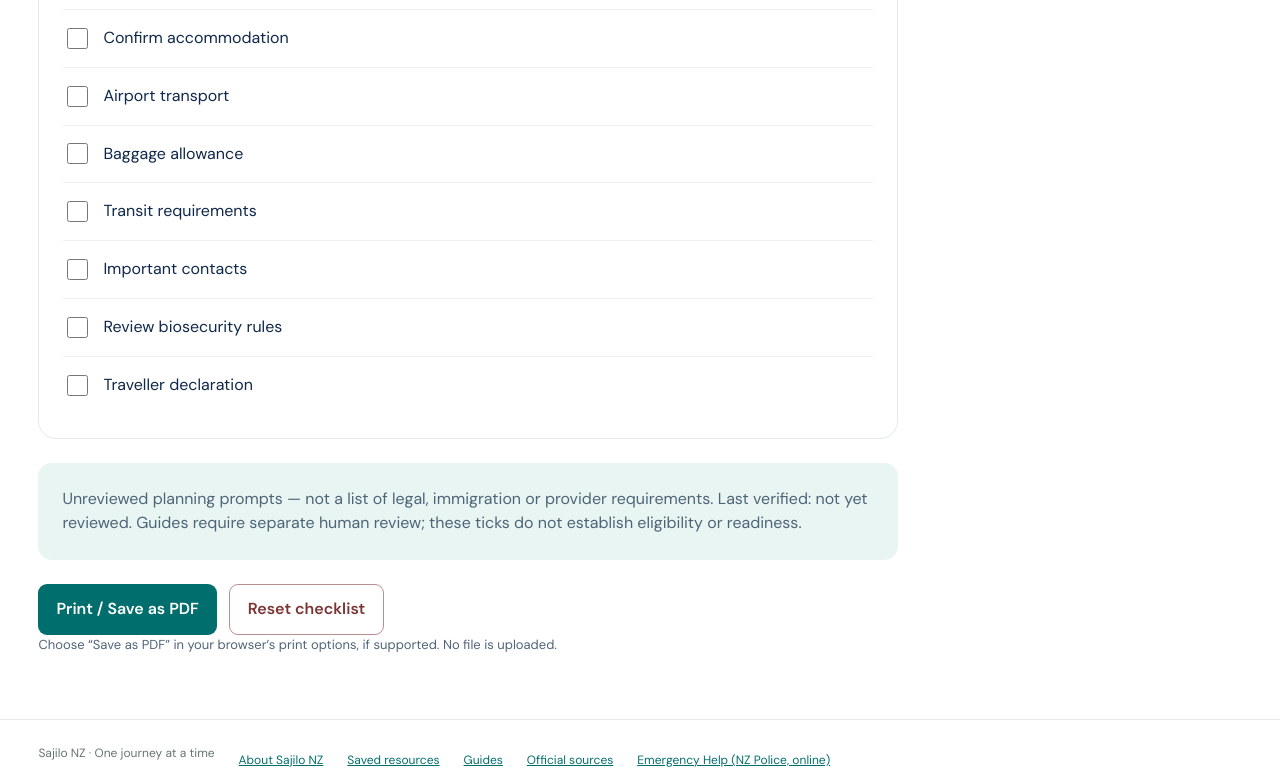
requires confirmation, preserves progress on cancel and confirms successful reset
The image size is (1280, 770).
(page scrolled)
Click the button "Reset checklist": point(306, 610) x1=229 y1=584 x2=384 y2=635
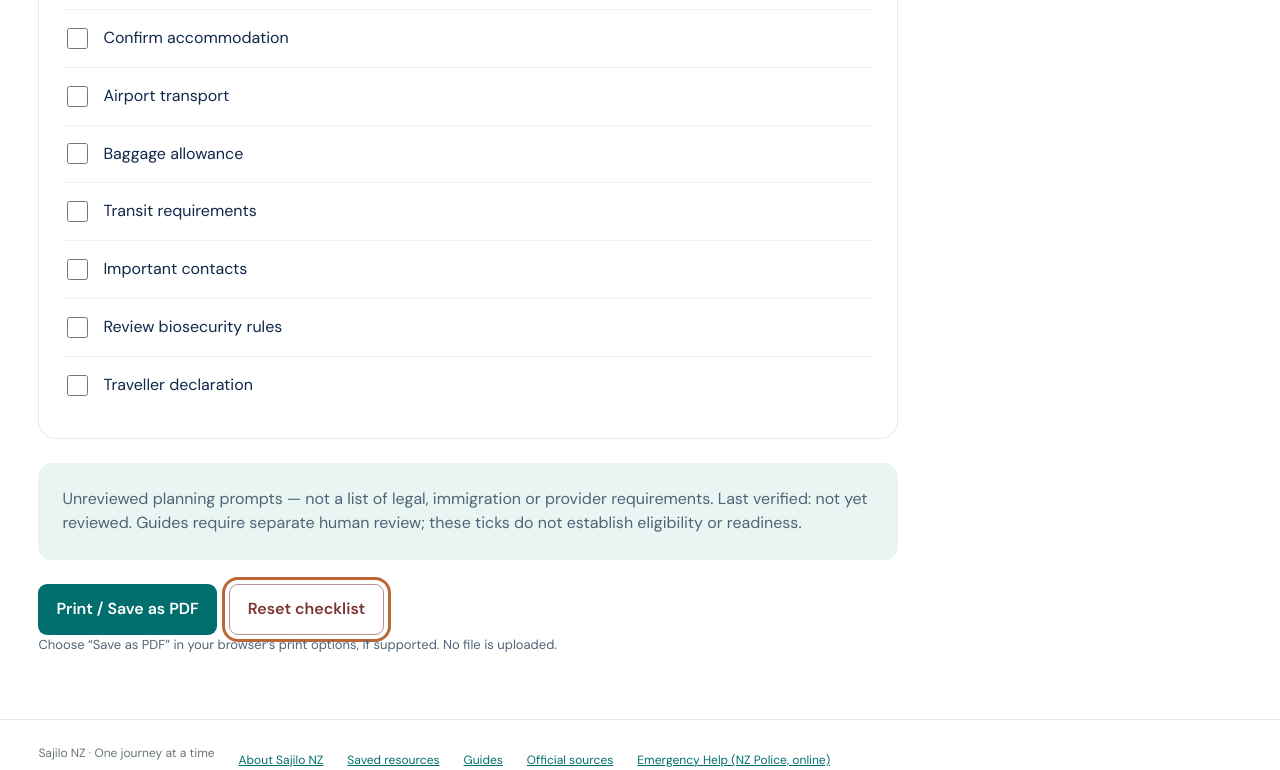
Click the button "Reset checklist": point(306, 610) x1=229 y1=584 x2=384 y2=635
(page scrolled)
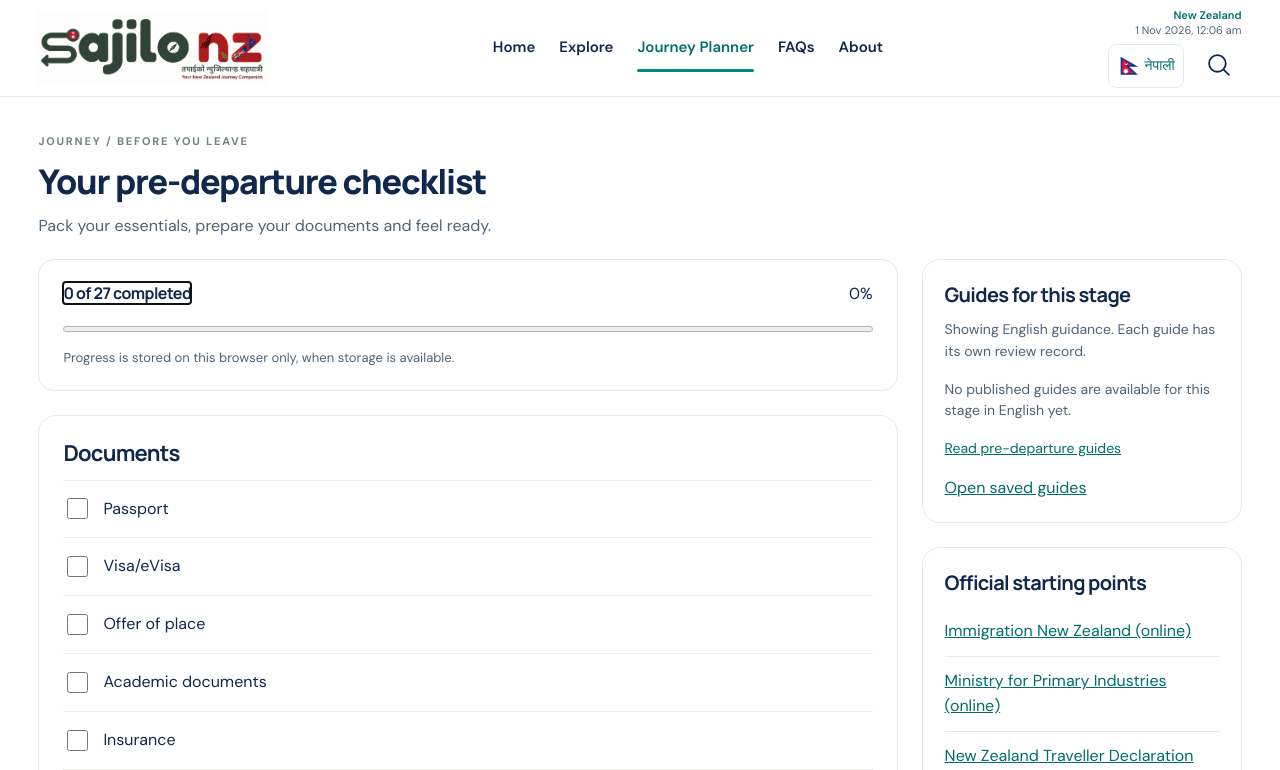
expect the checkbox labelled "Passport" is not checked: met, box x1=67 y1=498 x2=88 y2=520
